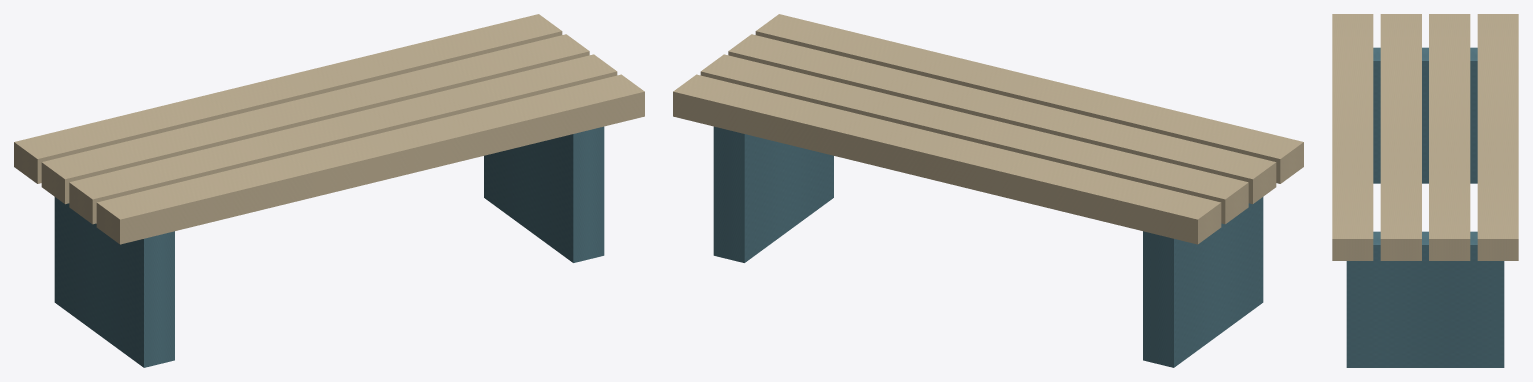
Rendered from atlas100-sailpunk-util03.glb.
3 renders of one model, left to right at view 1: azimuth 30°, elevation 25°; view 2: azimuth 150°, elevation 25°; view 3: azimuth 270°, elevation 25°, orthographic. The views are drawn at different scales.
Visible parts, largest first — view 1: atlas100-sailpunk-util03:part-005, atlas100-sailpunk-util03:part-003, atlas100-sailpunk-util03:part-002, atlas100-sailpunk-util03:part-004, atlas100-sailpunk-util03:part-000, atlas100-sailpunk-util03:part-001; view 2: atlas100-sailpunk-util03:part-002, atlas100-sailpunk-util03:part-004, atlas100-sailpunk-util03:part-003, atlas100-sailpunk-util03:part-005, atlas100-sailpunk-util03:part-000, atlas100-sailpunk-util03:part-001; view 3: atlas100-sailpunk-util03:part-001, atlas100-sailpunk-util03:part-002, atlas100-sailpunk-util03:part-003, atlas100-sailpunk-util03:part-004, atlas100-sailpunk-util03:part-005, atlas100-sailpunk-util03:part-000.
Boxes of the visible parts, x1,y1,x2,y2 form: atlas100-sailpunk-util03:part-005: [96, 74, 644, 244]; atlas100-sailpunk-util03:part-003: [41, 34, 589, 204]; atlas100-sailpunk-util03:part-002: [14, 14, 562, 183]; atlas100-sailpunk-util03:part-004: [69, 54, 617, 224]; atlas100-sailpunk-util03:part-000: [54, 197, 174, 367]; atlas100-sailpunk-util03:part-001: [484, 126, 604, 262]; atlas100-sailpunk-util03:part-002: [673, 74, 1221, 244]; atlas100-sailpunk-util03:part-004: [728, 34, 1276, 204]; atlas100-sailpunk-util03:part-003: [700, 54, 1248, 224]; atlas100-sailpunk-util03:part-005: [755, 14, 1303, 183]; atlas100-sailpunk-util03:part-000: [1143, 197, 1263, 367]; atlas100-sailpunk-util03:part-001: [713, 126, 833, 262]; atlas100-sailpunk-util03:part-001: [1346, 231, 1504, 367]; atlas100-sailpunk-util03:part-002: [1477, 14, 1518, 260]; atlas100-sailpunk-util03:part-003: [1429, 14, 1470, 260]; atlas100-sailpunk-util03:part-004: [1380, 14, 1421, 260]; atlas100-sailpunk-util03:part-005: [1332, 14, 1373, 260]; atlas100-sailpunk-util03:part-000: [1373, 47, 1477, 183].
Size of the model in its own units: 2.4 by 0.7098 by 0.8408.
Materials: 2 (2 with a texture image).
